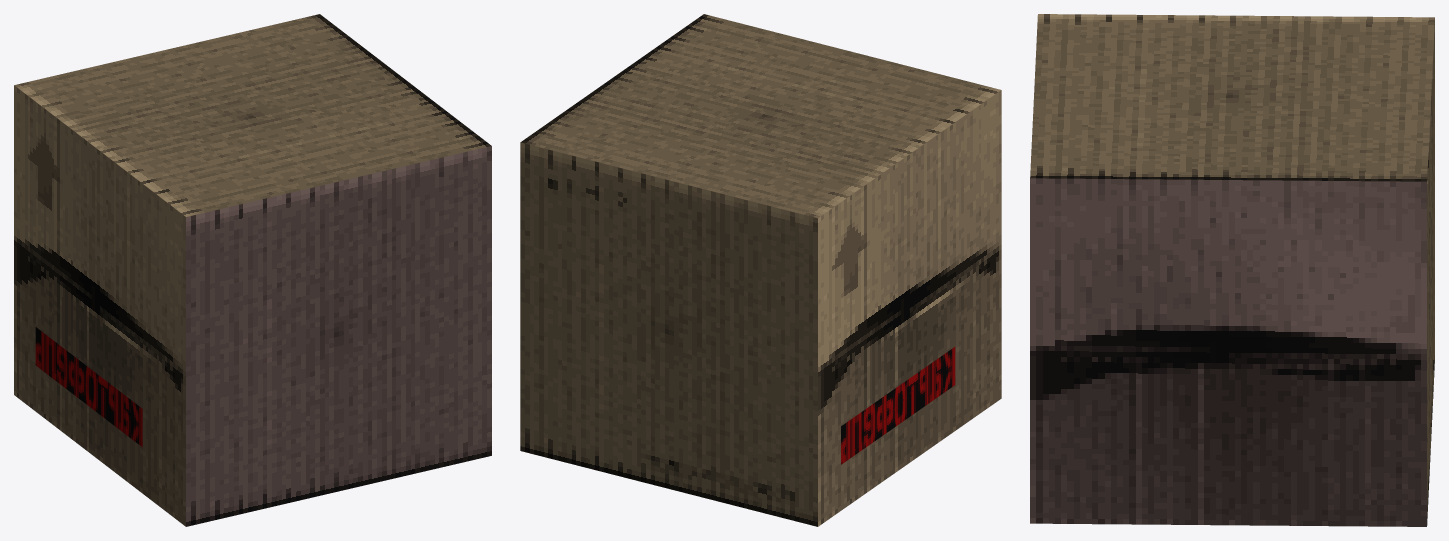
The model's file is primary_126.glb.
3 renders of one model, left to right at view 1: azimuth 30°, elevation 25°; view 2: azimuth 150°, elevation 25°; view 3: azimuth 270°, elevation 25°, orthographic. The views are drawn at different scales.
Visible parts, largest first — view 1: Object; view 2: Object; view 3: Object.
Boxes of the visible parts, x1=… form: Object: x1=14, y1=14, x2=491, y2=526; Object: x1=520, y1=14, x2=1001, y2=526; Object: x1=1030, y1=14, x2=1434, y2=526.
Bounding box in the file's own units: 1.12 × 1.07 × 1.14.
7 materials, 7 textured.
